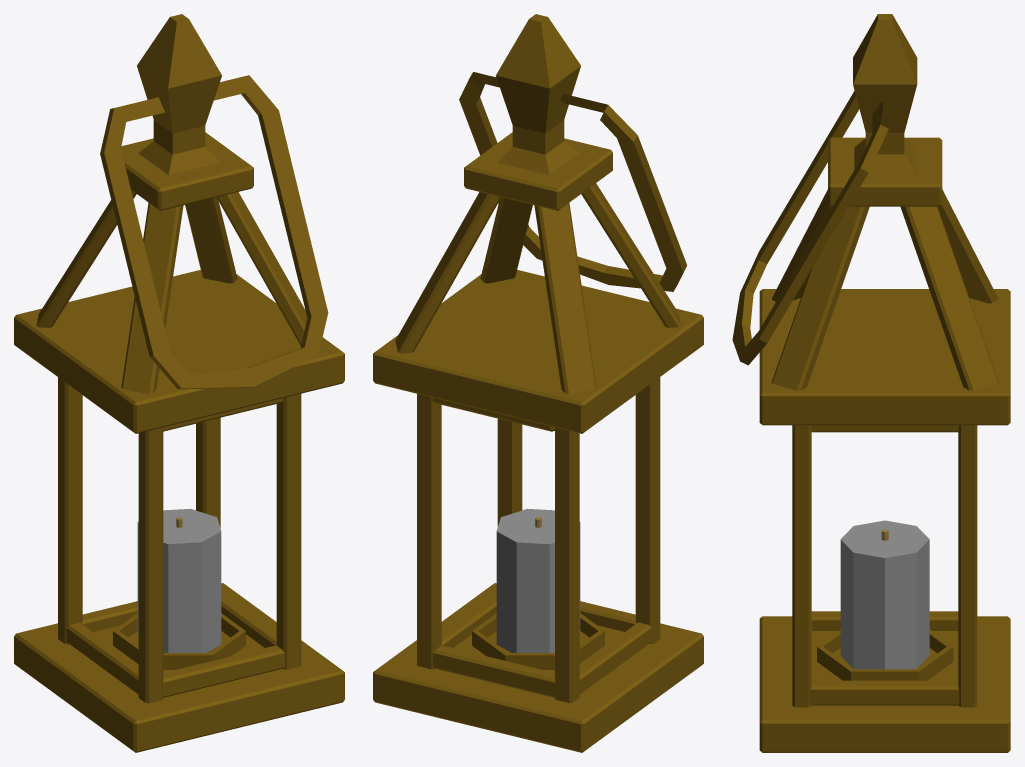
The model's file is Lamp1.glb.
3 renders of one model, left to right at view 1: azimuth 30°, elevation 25°; view 2: azimuth 150°, elevation 25°; view 3: azimuth 270°, elevation 25°, orthographic. The views are drawn at different scales.
Visible parts, largest first — view 1: Lamp1; view 2: Lamp1; view 3: Lamp1.
Boxes of the visible parts, x1=… form: Lamp1: x1=14, y1=14, x2=344, y2=752; Lamp1: x1=373, y1=14, x2=703, y2=752; Lamp1: x1=732, y1=14, x2=1010, y2=752.
Size of the model in its own units: 0.2829 by 0.8515 by 0.3136.
